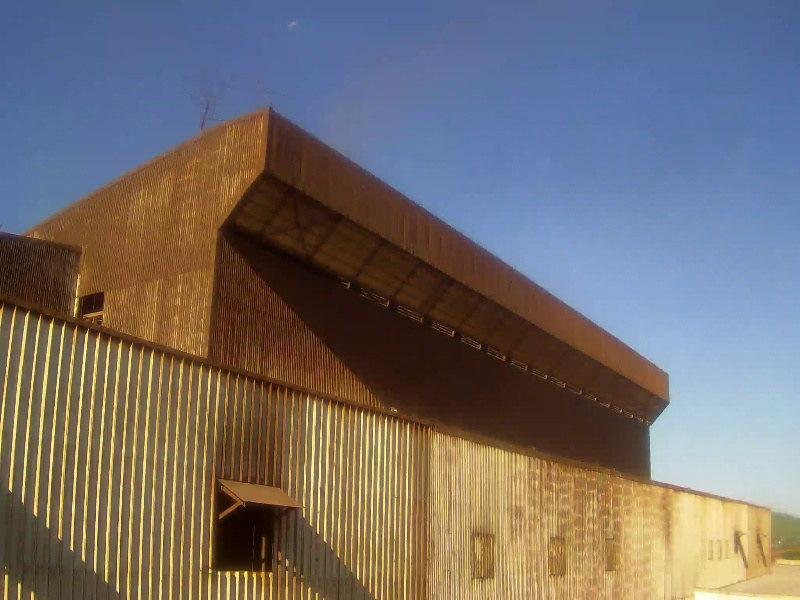bom: (279, 45, 683, 450), (9, 7, 268, 199), (579, 282, 800, 499)
